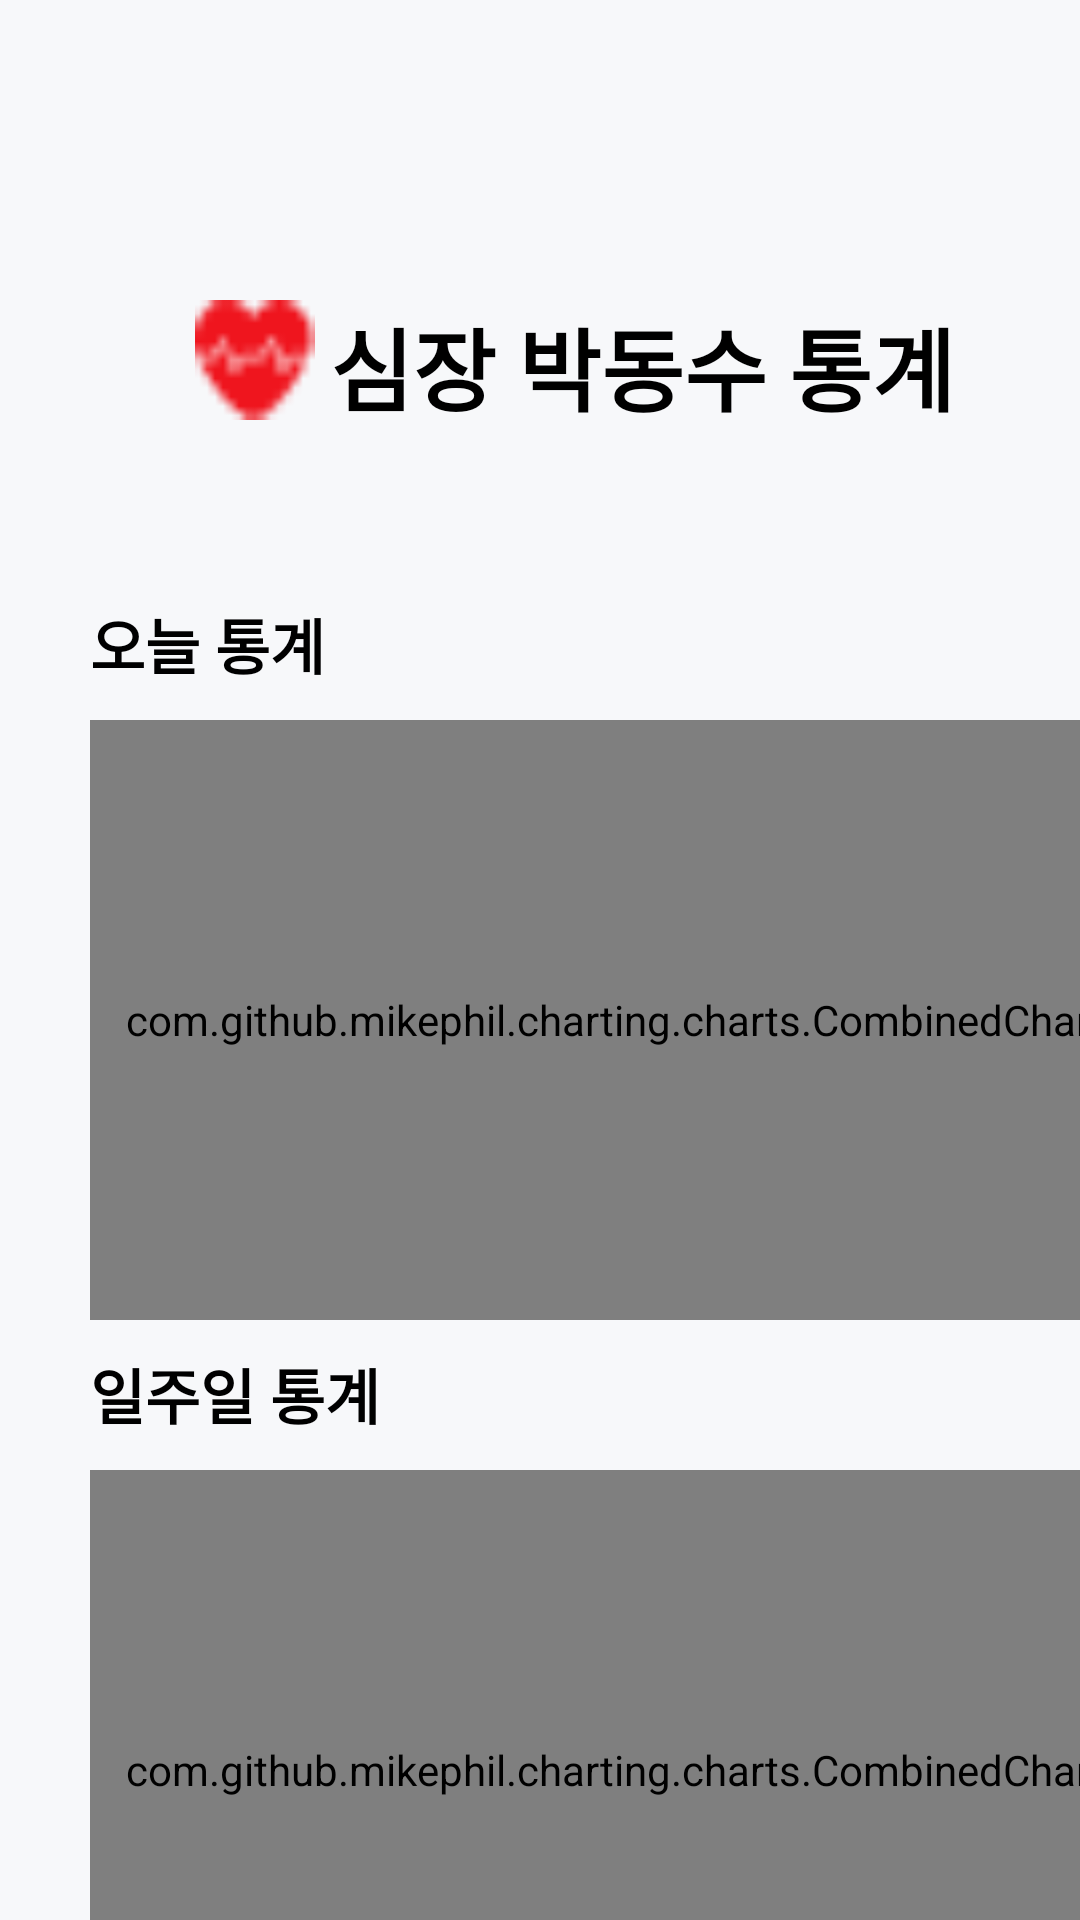

Locate icon controls on the screen. Image size 1080*1920, boxes as bbox(x1, y1, x2, y2).
heart: bbox(195, 300, 315, 420)
